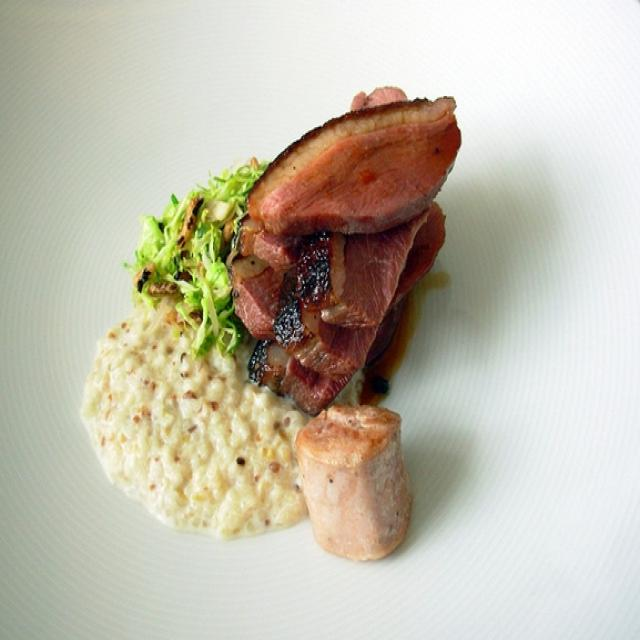米饭主食: (50, 34, 556, 581)
